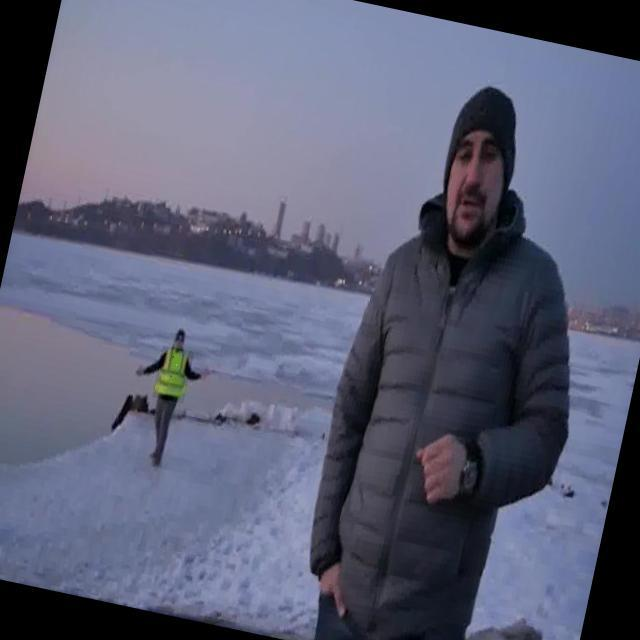Person: (298, 54, 595, 640), (122, 310, 223, 485)
Safety Vest: (152, 345, 194, 403)
bare-arms: (413, 423, 484, 520), (313, 559, 355, 616)
no-helmet: (443, 84, 524, 161)
no-vest: (308, 193, 578, 632)
